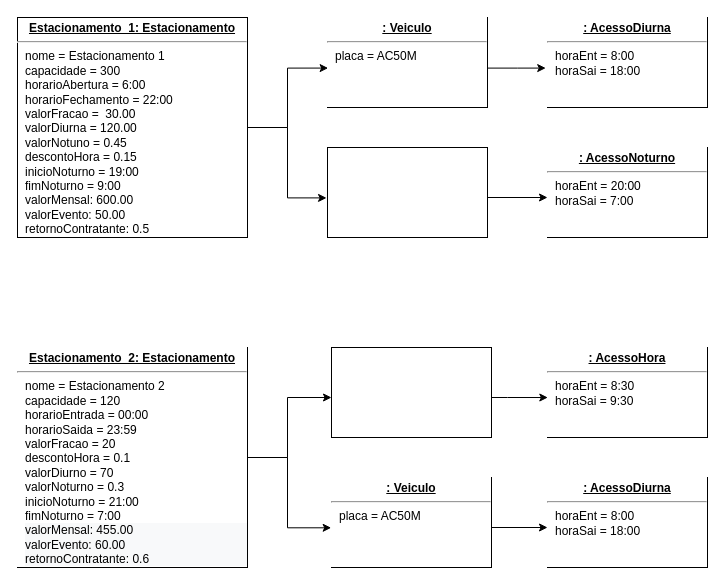
The diagram is 725 pixels wide and 585 high, and some of its shapes have lost their labels. The centre of each missing label's shape, as x and y in pixels:
": Veiculo placa = HI139" goes at [411,392].
": Veiculo placa = RM3A9" goes at [407,192].
